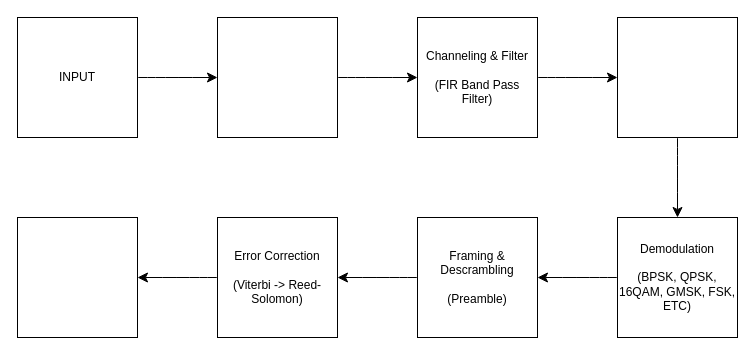
Image size: 755x355. Some labels were removed from this diagram. Each missing label, with the box of its shape:
Carrier & Timing Sync (Gardner Loop -> Costas Loop): (616, 16, 738, 138)
Front-End, Data Acquisition (File Reader, ADC Reader): (216, 16, 338, 138)
OUTPUT: (16, 216, 138, 338)
